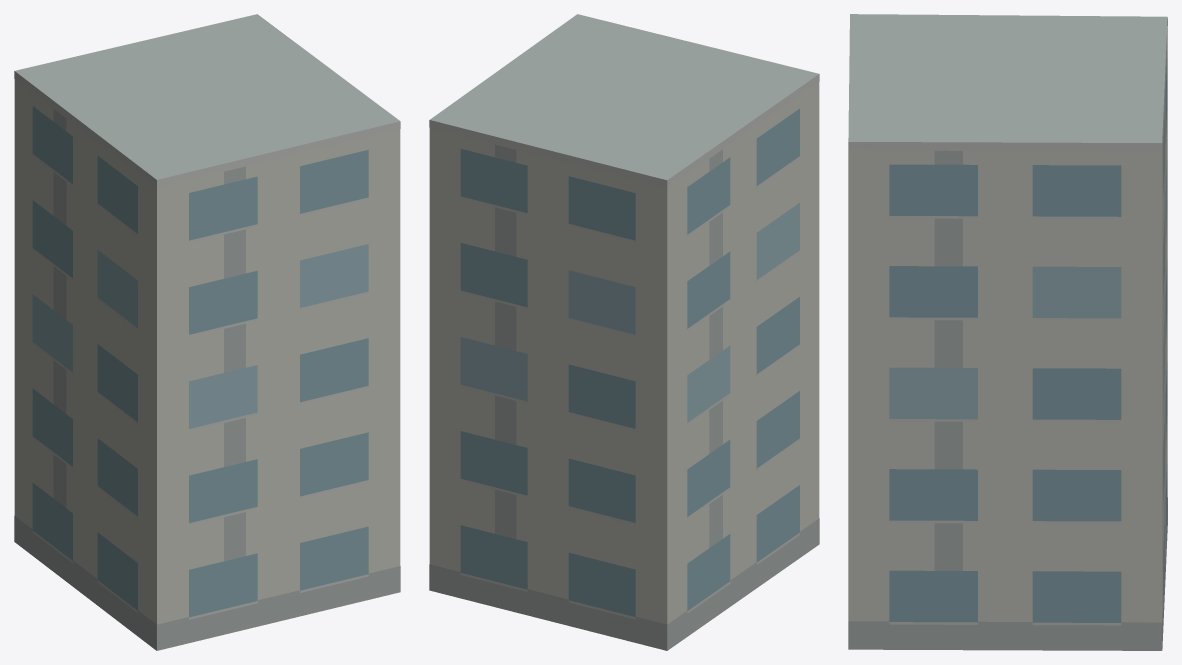
Rendered from survey-upis-32724908.glb.
3 views of the same model, side by side, from view 1: azimuth 30°, elevation 25°; view 2: azimuth 150°, elevation 25°; view 3: azimuth 270°, elevation 25° (orthographic). The views are drawn at different scales.
Parts seen in each view (by area): view 1: survey-upis-32724908.tmp; view 2: survey-upis-32724908.tmp; view 3: survey-upis-32724908.tmp.
Part boxes in pixels (<box>): survey-upis-32724908.tmp: <box>14,14,400,650</box>; survey-upis-32724908.tmp: <box>429,14,819,650</box>; survey-upis-32724908.tmp: <box>848,14,1167,650</box>.
Size of the model in its own units: 7.86 by 14.4 by 8.22.
